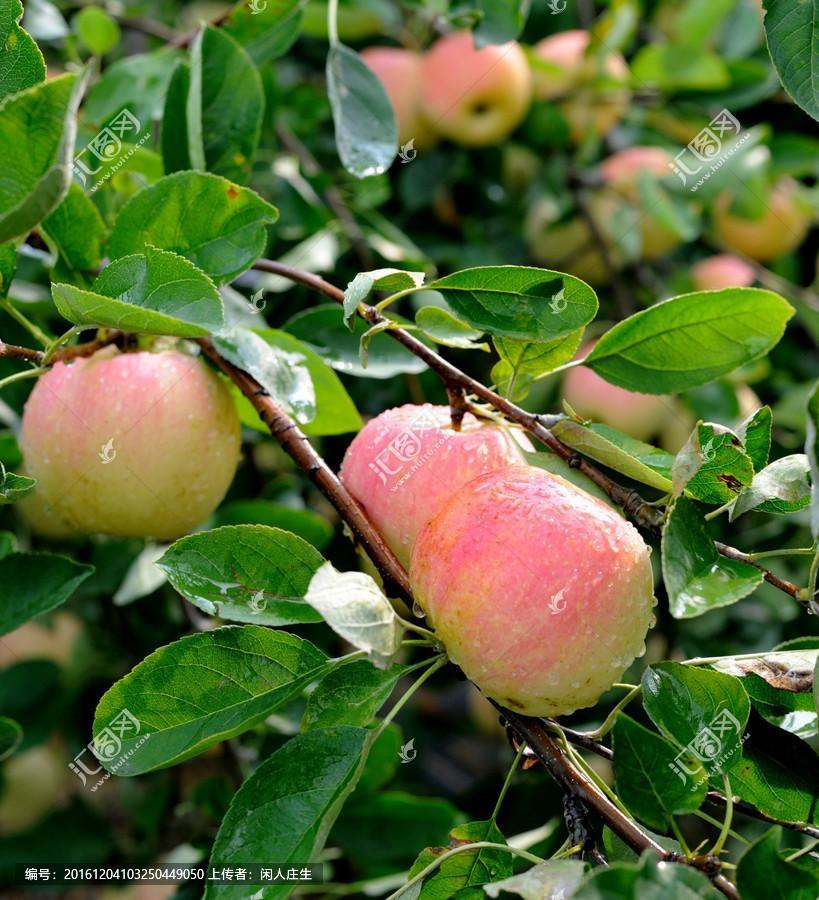apple: (410, 470, 653, 723), (13, 336, 241, 543)
